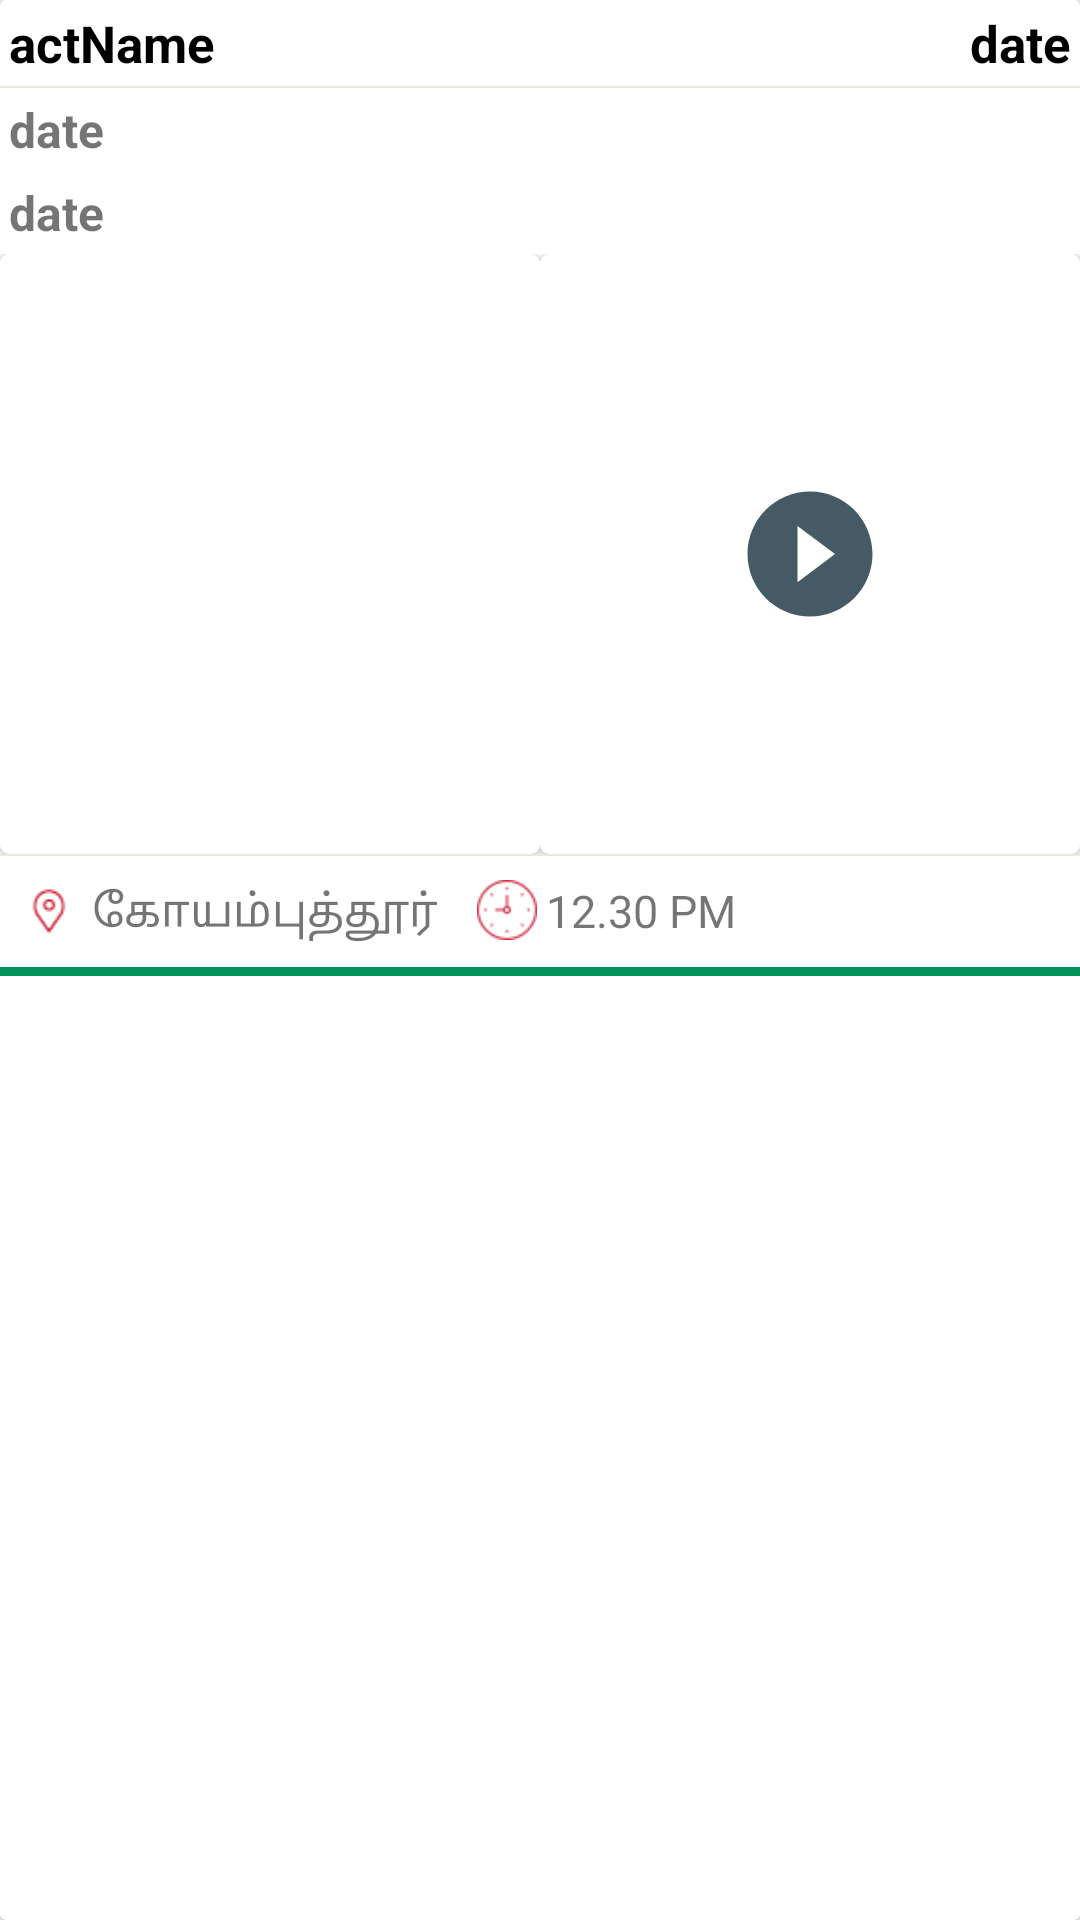

Locate icon controls on the screen. Image size 1080px x 1920px, boxes as [x1=x1, y1=y1, x2=x2, y2=y2].
clock: [x1=477, y1=880, x2=537, y2=940]
loc: [x1=32, y1=889, x2=66, y2=934]
play circle: [x1=747, y1=491, x2=873, y2=617]
